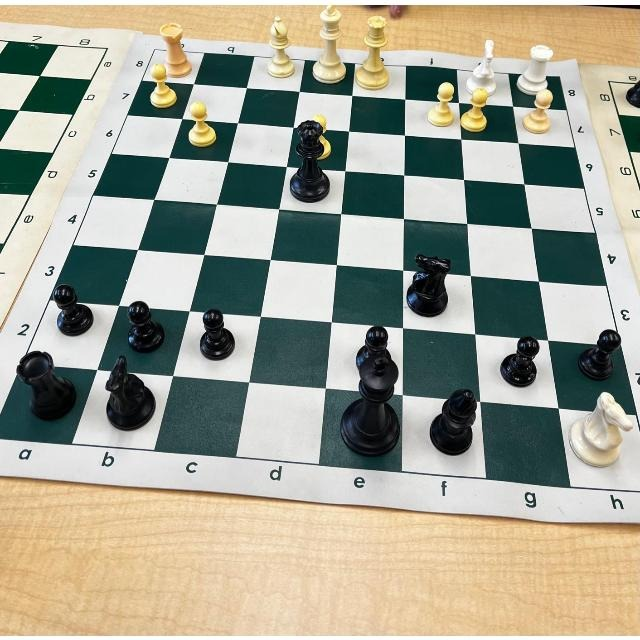black-bishop: (437, 383, 476, 457)
black-king: (343, 357, 406, 457)
black-knight: (97, 352, 155, 427), (401, 244, 457, 321)
black-pawn: (118, 290, 166, 352), (50, 277, 95, 336), (505, 326, 542, 389), (354, 319, 391, 368), (582, 327, 618, 377), (199, 308, 232, 361)
black-queen: (290, 118, 329, 206)
black-rook: (11, 342, 78, 421)
white-bishop: (262, 12, 296, 78)
white-king: (318, 4, 346, 83)
white-knight: (565, 386, 632, 470), (470, 37, 502, 94)
white-pawn: (185, 98, 216, 148), (143, 62, 175, 110), (528, 84, 556, 137), (434, 72, 454, 132), (312, 108, 336, 156), (466, 88, 486, 137)
white-queen: (358, 14, 390, 89)
white-rook: (516, 36, 555, 92), (155, 18, 190, 74)
